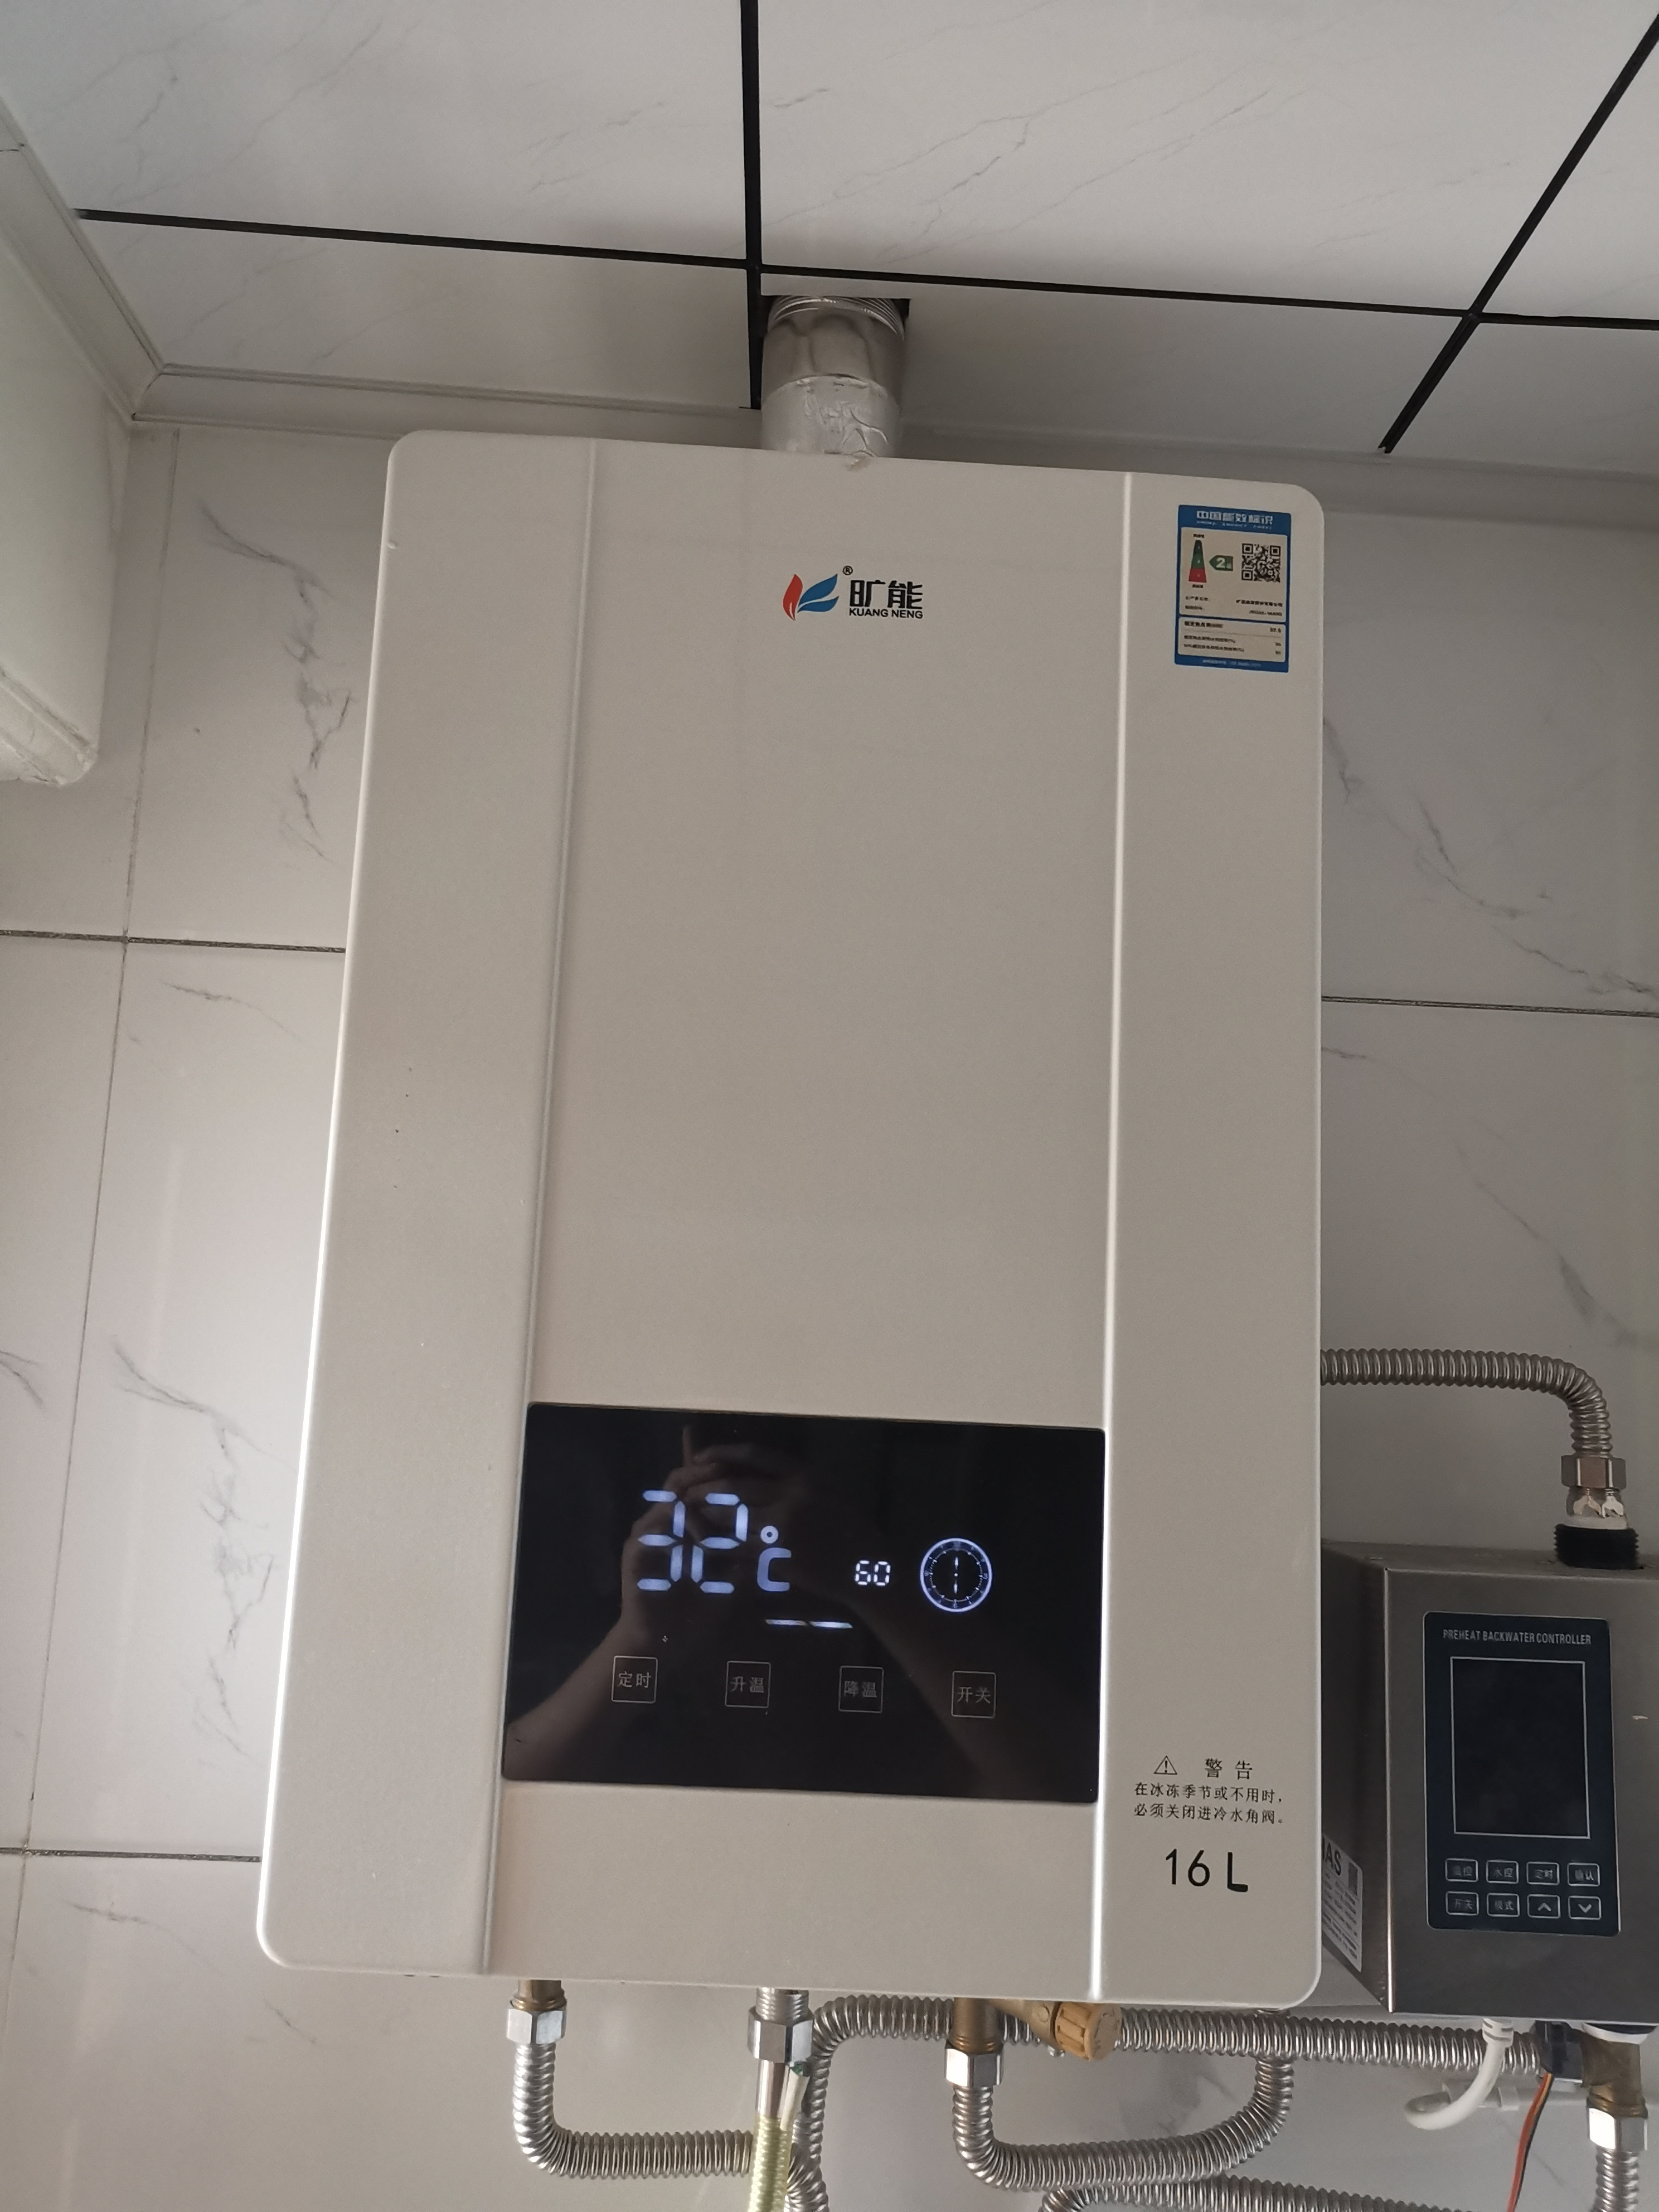loudou: (753, 550, 964, 632)
